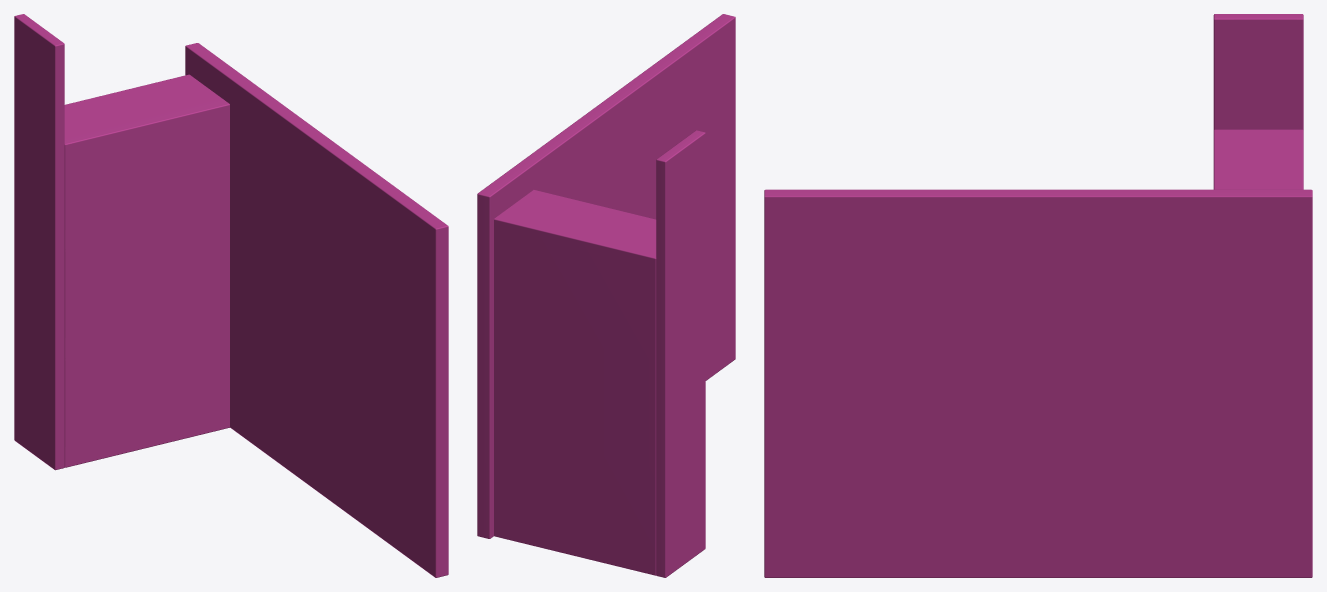
The model's file is StructureReceptionWallPartition_02_Mesh.fbx.
The picture shows the model from 3 angles, left to right: view 1: azimuth 30°, elevation 25°; view 2: azimuth 150°, elevation 25°; view 3: azimuth 270°, elevation 25°; orthographic projection. The views are drawn at different scales.
Visible parts, largest first — view 1: StructureReceptionWallPartition_02; view 2: StructureReceptionWallPartition_02; view 3: StructureReceptionWallPartition_02.
Part boxes in pixels (x1=…): StructureReceptionWallPartition_02: x1=14, y1=14, x2=448, y2=577; StructureReceptionWallPartition_02: x1=477, y1=14, x2=735, y2=577; StructureReceptionWallPartition_02: x1=764, y1=14, x2=1312, y2=577.
Bounding box in the file's own units: 198 × 426 × 456.
